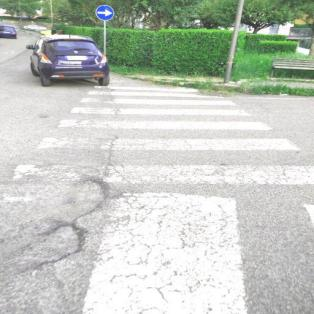Paso de Cebra: (34, 119, 304, 151), (78, 90, 240, 107)
